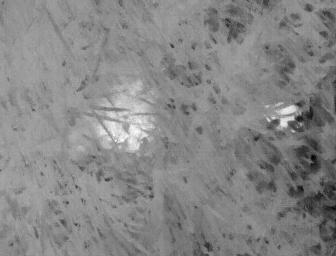landmine: (82, 70, 160, 154)
